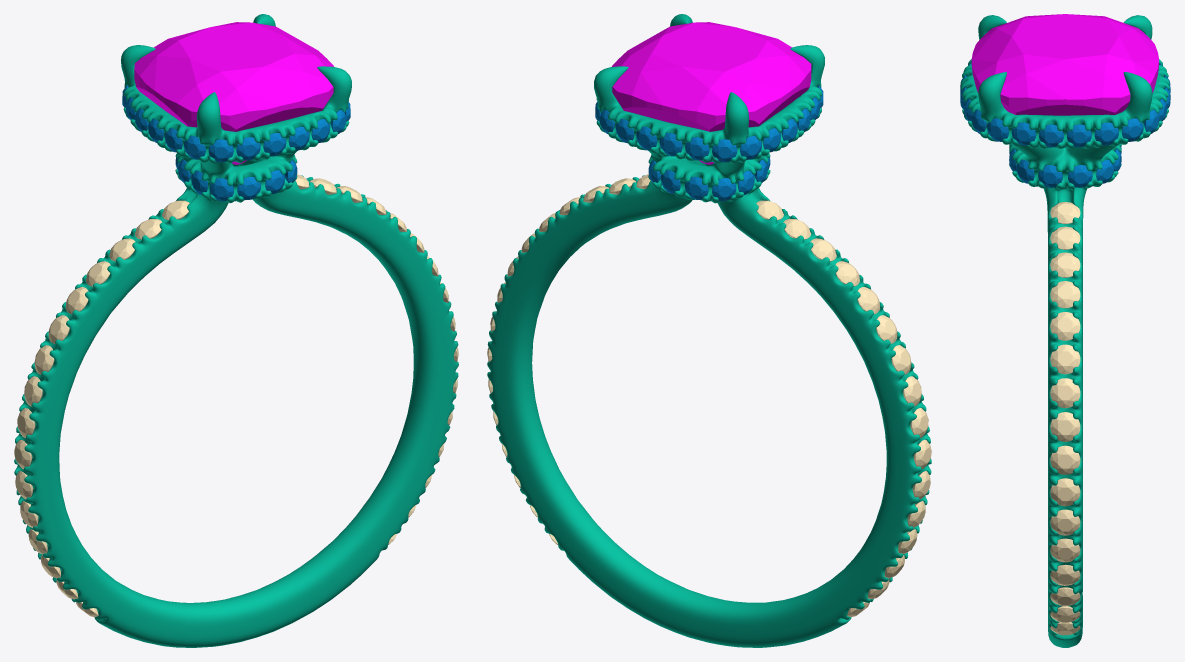
The model's file is BE1D6362P_CU_200ct_RENDER.glb.
3 views of the same model, side by side, from view 1: azimuth 30°, elevation 25°; view 2: azimuth 150°, elevation 25°; view 3: azimuth 270°, elevation 25° (orthographic).
Visible parts, largest first — view 1: Metal 01, CS_Diamond_Cushion; view 2: Metal 01, CS_Diamond_Cushion; view 3: Metal 01, CS_Diamond_Cushion, Diamond_Round_Gem_SH.022, Diamond_Round_Gem_SH.023, Diamond_Round_Gem_SH.021, Diamond_Round_Gem_SH.024, Diamond_Round_Gem_SH.020, Diamond_Round_Gem_SH.025, Diamond_Round_Gem_SH.019, Diamond_Round_Gem_SH.026, Diamond_Round_Gem_SH.018, Diamond_Round_Gem_SH.027 (+13 smaller).
Boxes of the visible parts, bbox=[...] form: Metal 01: bbox=[14, 14, 458, 647]; CS_Diamond_Cushion: bbox=[134, 22, 333, 164]; Metal 01: bbox=[487, 14, 931, 647]; CS_Diamond_Cushion: bbox=[612, 22, 811, 164]; Metal 01: bbox=[960, 15, 1170, 647]; CS_Diamond_Cushion: bbox=[971, 14, 1158, 115]; Diamond_Round_Gem_SH.022: bbox=[1050, 378, 1080, 408]; Diamond_Round_Gem_SH.023: bbox=[1050, 412, 1080, 441]; Diamond_Round_Gem_SH.021: bbox=[1050, 344, 1080, 374]; Diamond_Round_Gem_SH.024: bbox=[1050, 445, 1080, 474]; Diamond_Round_Gem_SH.020: bbox=[1050, 312, 1080, 340]; Diamond_Round_Gem_SH.025: bbox=[1050, 478, 1080, 506]; Diamond_Round_Gem_SH.019: bbox=[1050, 281, 1080, 308]; Diamond_Round_Gem_SH.026: bbox=[1050, 509, 1080, 535]; Diamond_Round_Gem_SH.018: bbox=[1050, 252, 1080, 277]; Diamond_Round_Gem_SH.027: bbox=[1050, 538, 1080, 562].
Size of the model in its own units: 19.99 by 25.95 by 8.42.
